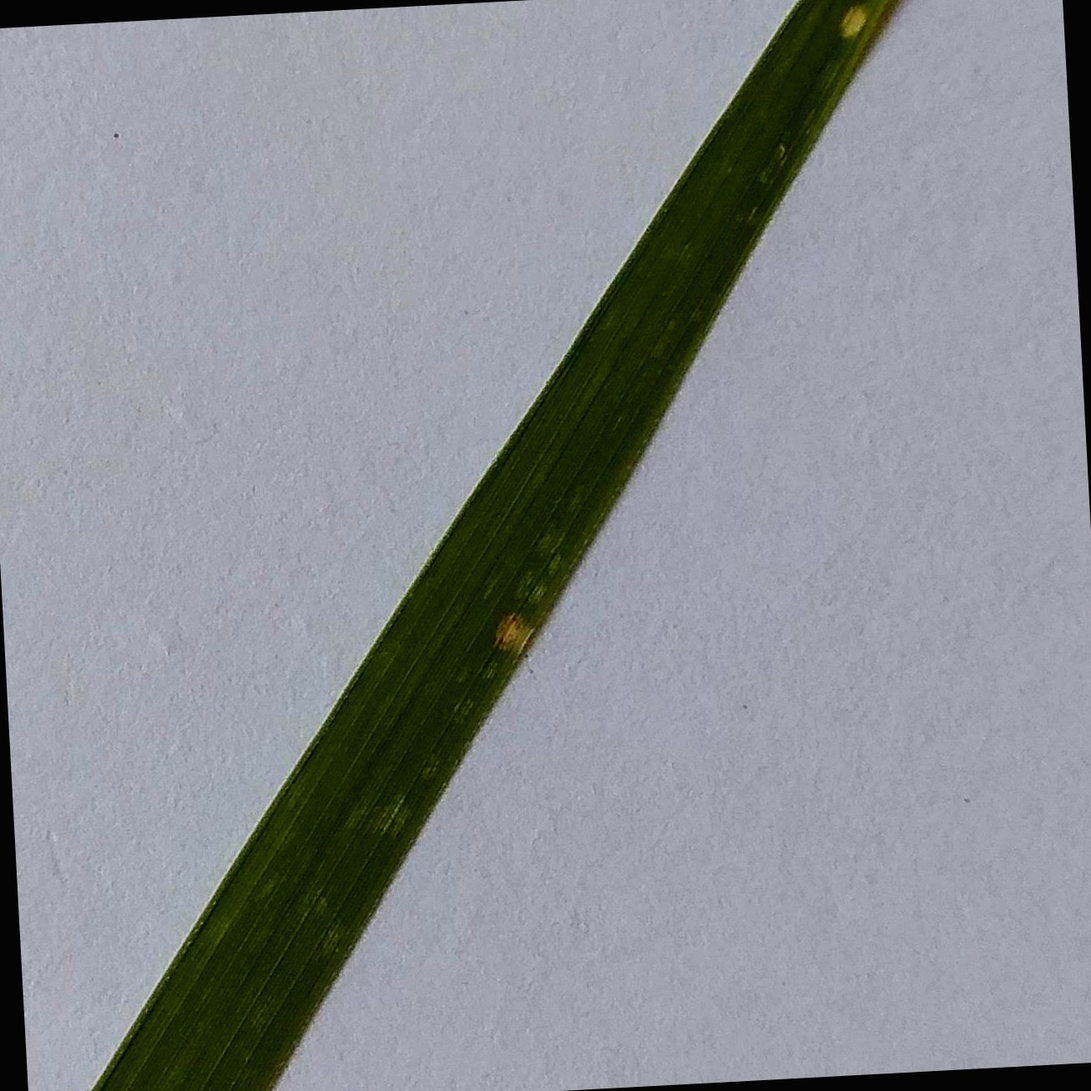Brown_Spot: (477, 578, 553, 666), (831, 0, 875, 43)
